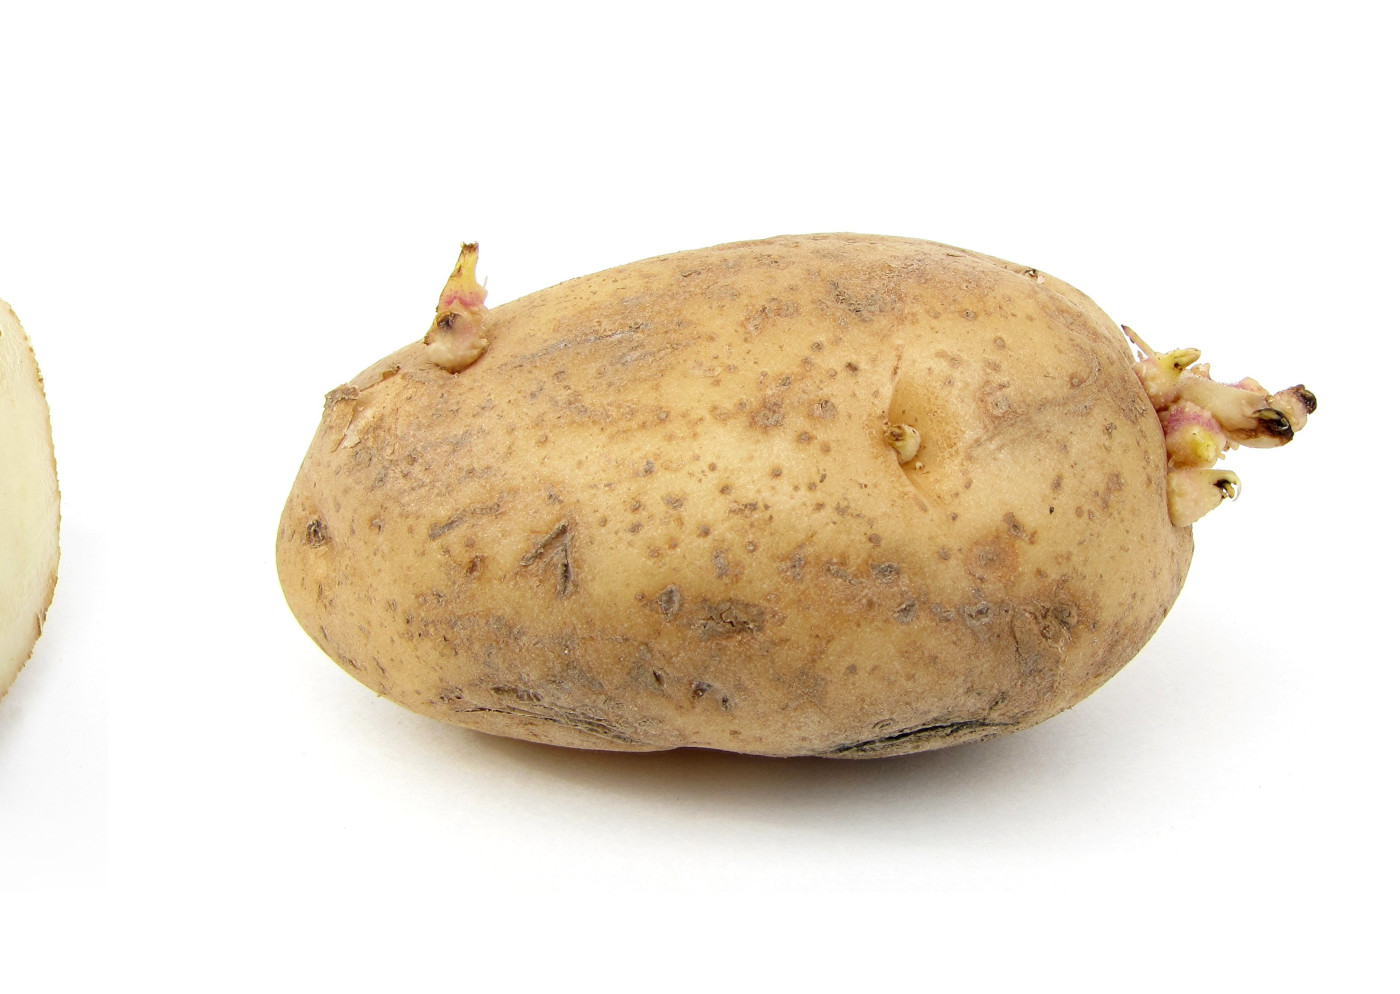potato: (272, 230, 1322, 768)
